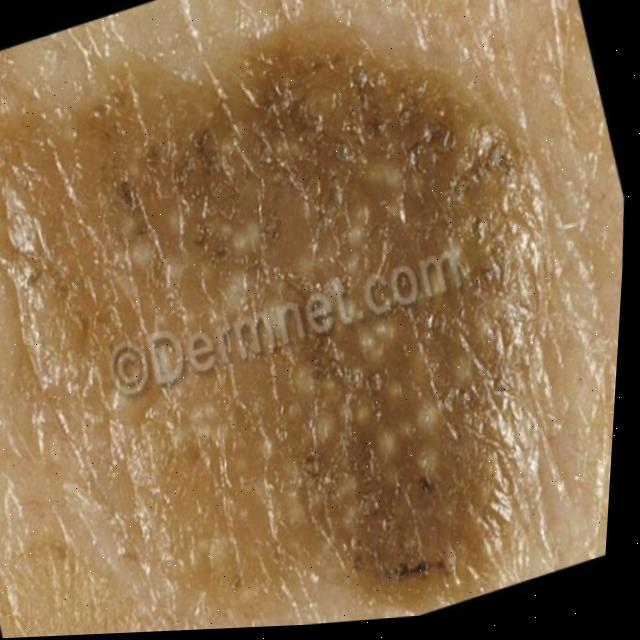Eczema: (109, 68, 501, 633)
